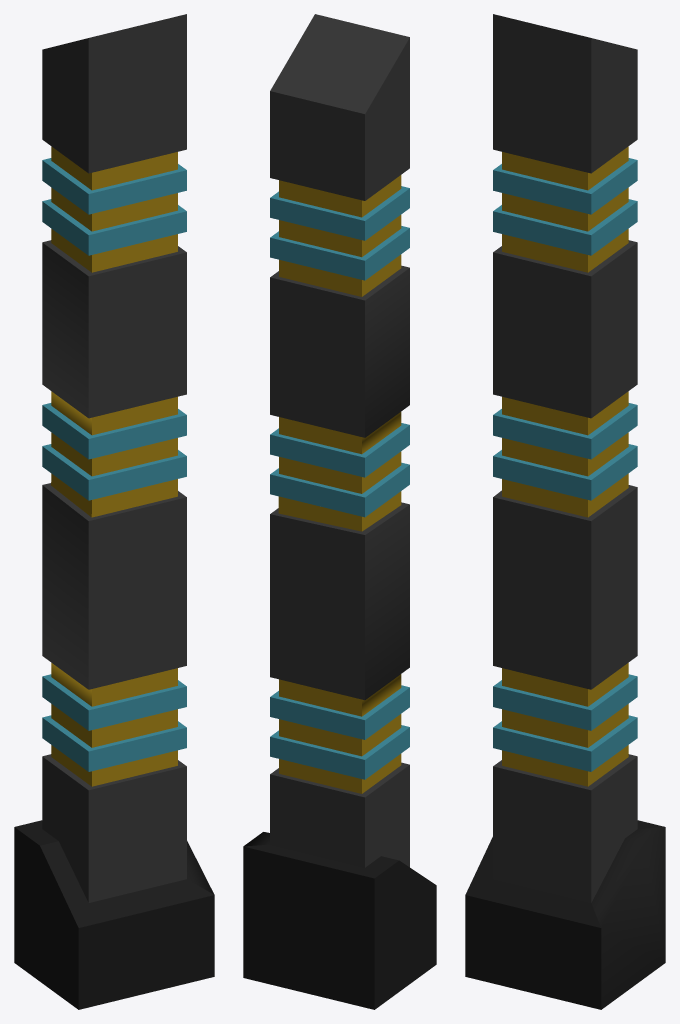
The model's file is Columna.fbx.
The picture shows the model from 3 angles, left to right: view 1: azimuth 30°, elevation 25°; view 2: azimuth 150°, elevation 25°; view 3: azimuth 330°, elevation 25°; orthographic projection. The views are drawn at different scales.
Parts seen in each view (by area): view 1: Columna; view 2: Columna; view 3: Columna.
Part boxes in pixels (<box>): Columna: <box>14,14,214,1009</box>; Columna: <box>243,14,436,1009</box>; Columna: <box>465,14,665,1009</box>.
Bounding box in the file's own units: 1.25 × 8.41 × 1.02.
